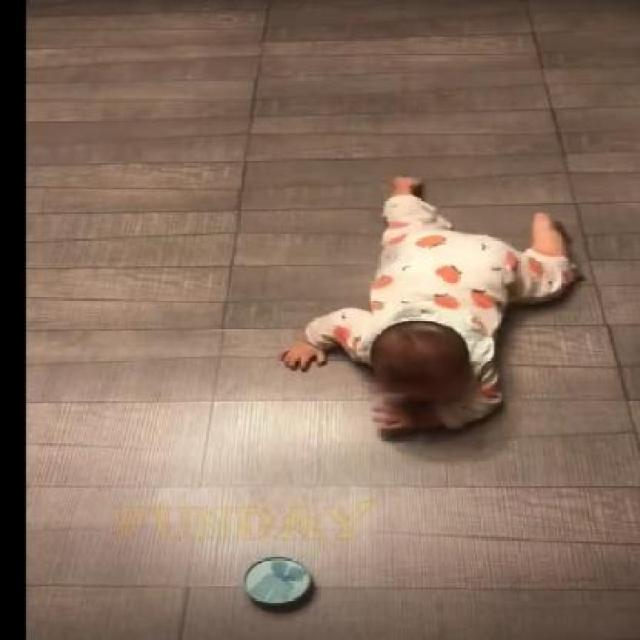baby: (278, 172, 577, 438)
